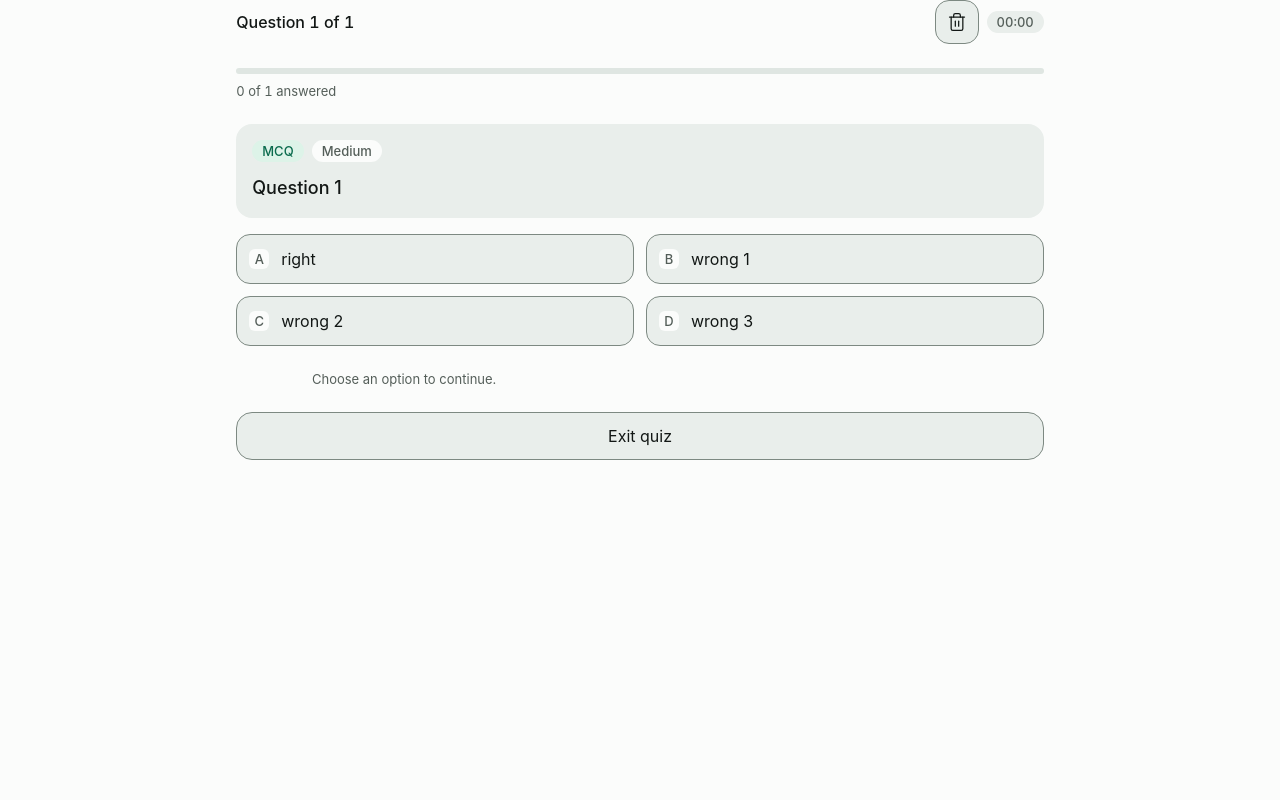
Test case: QuizRunner › returns to the quiz source when the last remaining question is deleted
Click the button named "Delete this question" at (957, 22), box [935,0,979,44]
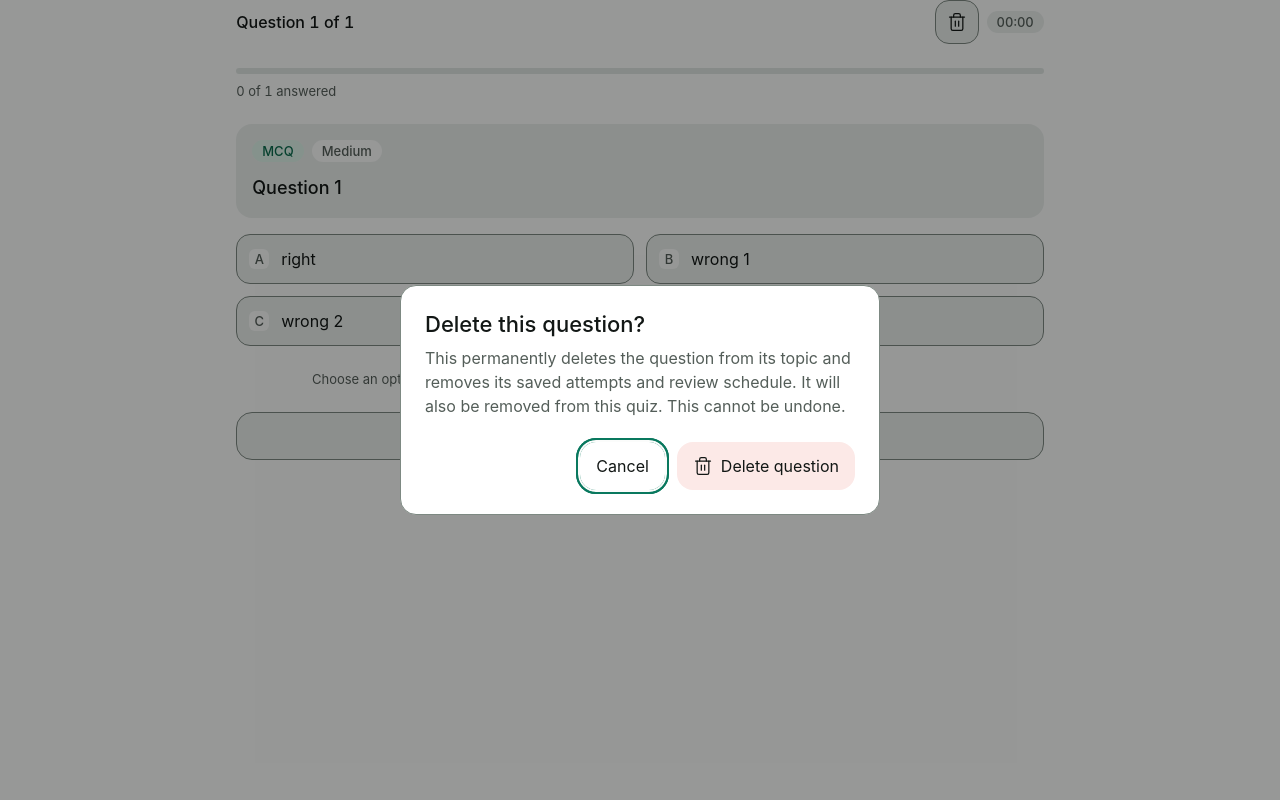
Click the button "Delete question" at (766, 466), box [677,442,855,490]
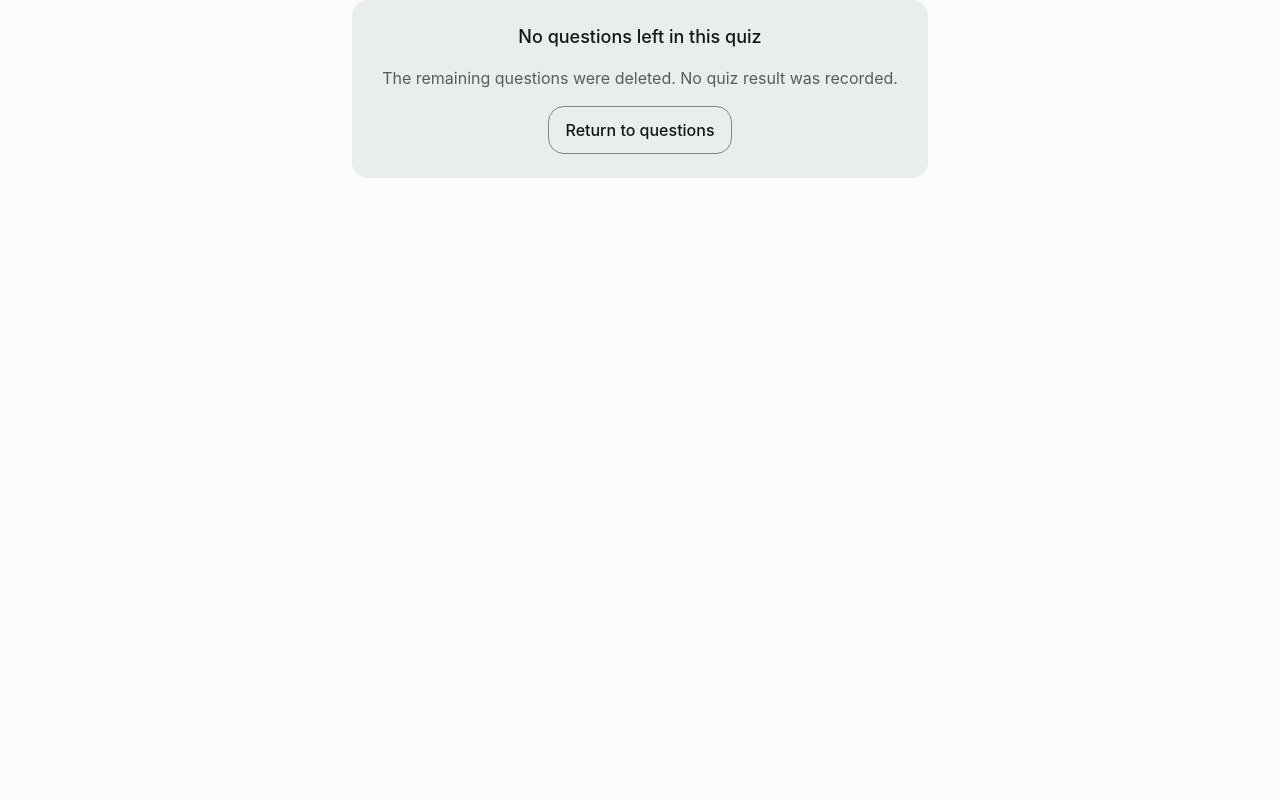
Now the text "No questions left in this quiz" is shown, box [518,24,762,50]
Now the link to "/x" reads "Return to questions", box [548,106,732,154]
